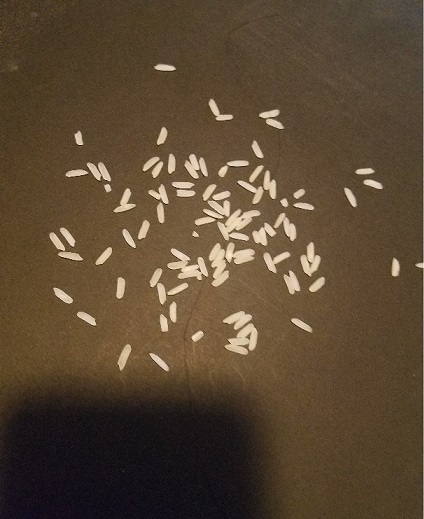egg: (169, 246, 197, 267), (221, 307, 249, 326), (147, 351, 170, 373), (57, 223, 77, 248), (51, 285, 75, 305), (116, 343, 132, 372), (210, 268, 232, 289), (47, 229, 66, 253), (289, 316, 315, 333), (94, 244, 114, 266), (232, 312, 254, 331), (57, 249, 86, 263), (96, 158, 112, 183), (342, 186, 361, 207), (262, 252, 279, 275), (86, 159, 103, 182), (195, 255, 210, 281), (75, 310, 99, 326), (121, 226, 137, 250), (139, 155, 160, 173), (111, 201, 140, 214), (167, 280, 189, 297), (307, 275, 327, 293), (288, 270, 303, 294), (136, 217, 151, 241), (247, 164, 265, 184), (235, 322, 256, 339), (280, 273, 295, 296), (214, 220, 230, 241), (155, 123, 168, 148), (270, 251, 290, 267), (212, 259, 228, 279), (201, 180, 217, 200), (206, 199, 226, 215), (182, 160, 198, 180), (224, 343, 250, 355), (173, 178, 199, 190), (310, 252, 324, 274), (230, 253, 252, 267), (206, 241, 222, 260), (176, 269, 201, 281), (150, 158, 165, 178), (249, 139, 264, 159), (115, 276, 128, 299), (209, 189, 232, 202), (148, 267, 162, 288), (236, 179, 257, 193), (156, 281, 167, 307), (156, 200, 167, 226), (226, 206, 241, 225), (362, 176, 382, 190), (389, 256, 401, 279), (120, 185, 133, 206), (264, 118, 285, 131), (235, 216, 252, 232), (211, 249, 225, 268), (206, 98, 220, 117), (227, 230, 251, 241), (257, 108, 281, 119), (229, 248, 255, 258), (65, 167, 88, 178), (224, 218, 242, 232), (228, 335, 253, 345), (71, 128, 84, 147), (299, 252, 310, 274), (225, 241, 236, 263), (166, 153, 177, 175), (192, 215, 214, 226), (197, 156, 208, 178), (166, 260, 190, 270), (251, 185, 263, 205), (262, 222, 279, 236), (256, 229, 269, 246), (158, 313, 169, 333), (250, 326, 259, 350), (306, 240, 315, 264), (201, 209, 225, 218), (292, 202, 316, 211), (152, 63, 176, 72), (354, 166, 375, 176), (187, 154, 200, 170), (274, 212, 286, 229), (169, 301, 179, 321), (147, 189, 165, 200), (174, 188, 196, 197), (262, 169, 271, 191), (180, 263, 199, 273), (282, 215, 291, 236), (291, 188, 306, 200), (157, 183, 168, 199), (225, 160, 250, 167), (213, 113, 234, 121), (217, 165, 229, 178), (189, 330, 203, 341), (250, 229, 260, 244), (269, 179, 276, 200), (102, 181, 113, 193), (279, 197, 289, 208), (290, 223, 296, 241), (415, 259, 424, 269), (196, 272, 204, 281), (191, 231, 199, 238)
